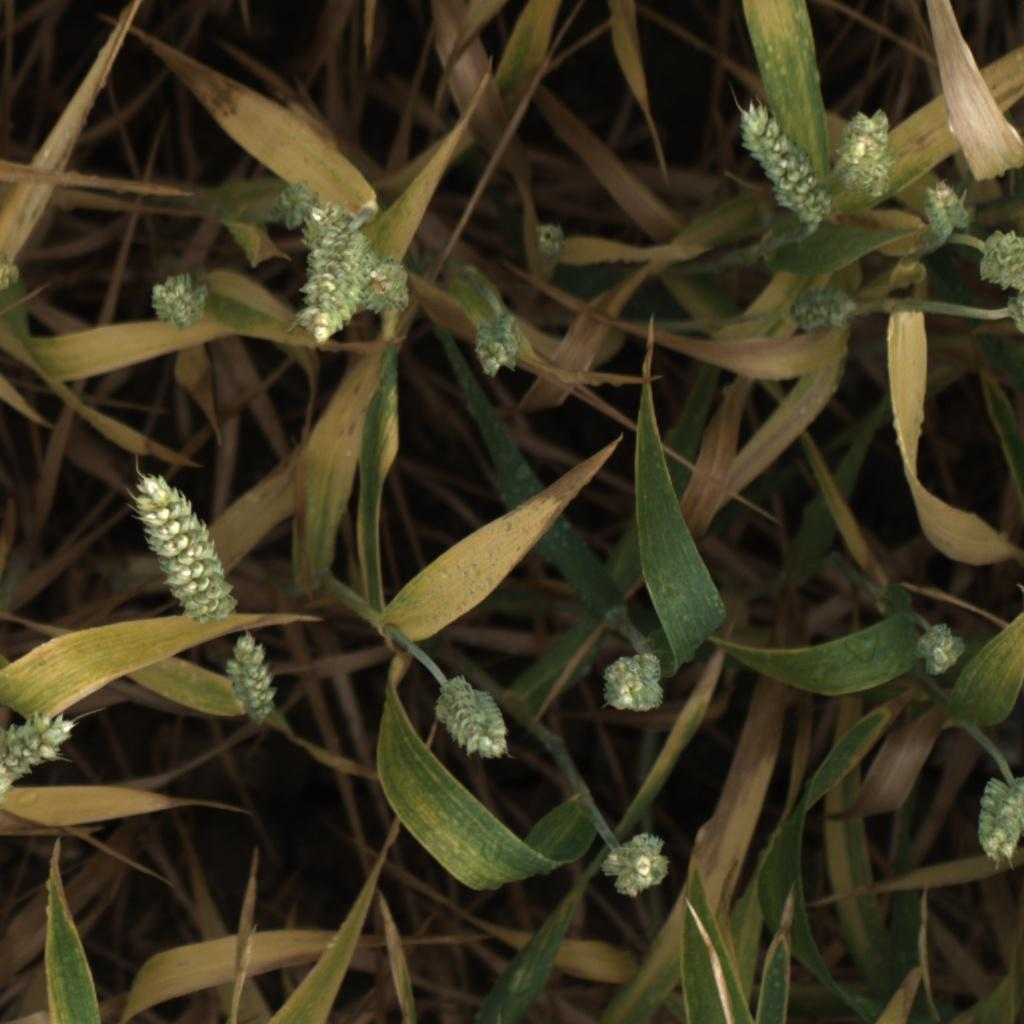0-0: (130, 464, 242, 626), (734, 95, 839, 234), (295, 198, 379, 343), (0, 711, 79, 810), (432, 673, 510, 762), (832, 104, 900, 205), (894, 612, 983, 689), (599, 822, 677, 900), (223, 630, 283, 731), (969, 768, 1024, 867), (594, 646, 664, 721), (143, 267, 212, 339), (785, 282, 868, 341), (465, 313, 527, 386), (916, 171, 974, 245), (969, 227, 1024, 301), (255, 179, 320, 238), (358, 252, 415, 318), (531, 217, 570, 267), (0, 246, 25, 301), (1006, 283, 1024, 339)
